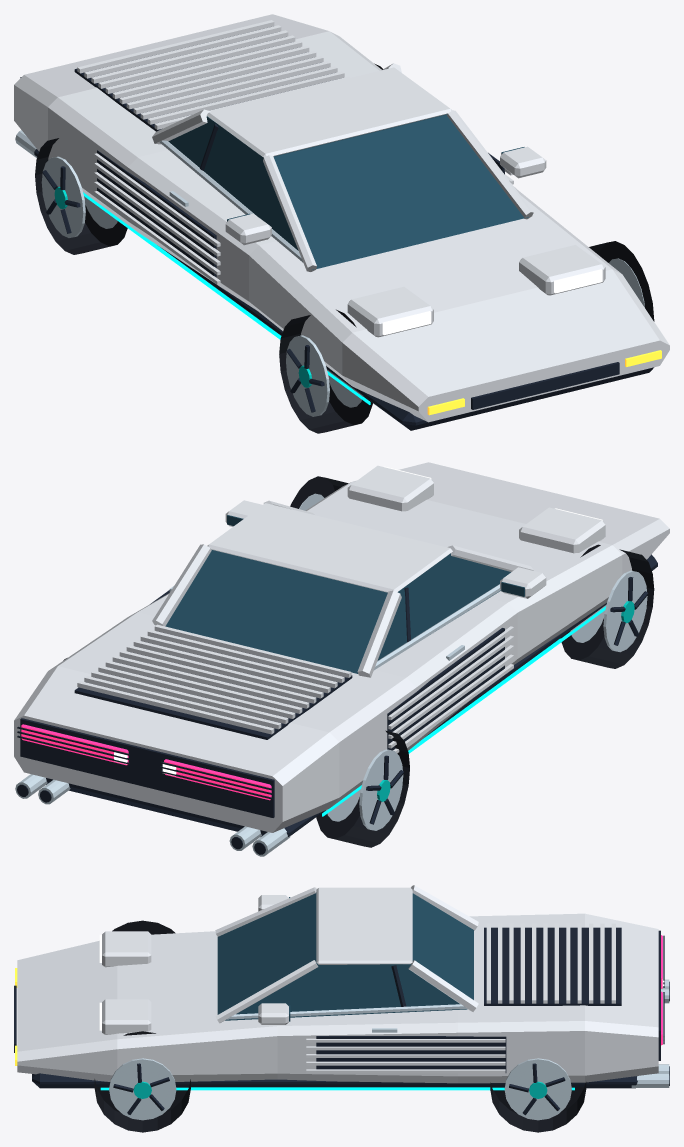
File: car.glb
The picture shows the model from 3 angles, top to bottom: view 1: azimuth 30°, elevation 25°; view 2: azimuth 150°, elevation 25°; view 3: azimuth 270°, elevation 25°; orthographic projection. The views are drawn at different scales.
Parts seen in each view (by area): view 1: body-ivory-pearl, body-midnight-glass, body-carbon-night, wheel-front-left-brushed-chrome, wheel-front-left, wheel-rear-left-brushed-chrome, wheel-rear-left, body-brushed-chrome, body-headlights, body-vehicle-glow, wheel-front-right, body-turn-signals; view 2: body-ivory-pearl, body-midnight-glass, body-carbon-night, body-brushed-chrome, wheel-front-left-brushed-chrome, wheel-front-left, wheel-rear-left-brushed-chrome, body-rear-lights, wheel-rear-left, body-vehicle-glow, wheel-front-right; view 3: body-ivory-pearl, body-midnight-glass, body-carbon-night, wheel-front-right-brushed-chrome, wheel-rear-right-brushed-chrome, body-brushed-chrome, wheel-front-right, wheel-rear-right, body-vehicle-glow, wheel-front-left, wheel-front-right-carbon-night, wheel-rear-right-carbon-night.
Boxes of the visible parts, bbox=[...] form: body-ivory-pearl: bbox=[14, 14, 669, 422]; body-midnight-glass: bbox=[168, 114, 528, 269]; body-carbon-night: bbox=[20, 68, 653, 430]; wheel-front-left-brushed-chrome: bbox=[286, 335, 363, 416]; wheel-front-left: bbox=[279, 309, 372, 433]; wheel-rear-left-brushed-chrome: bbox=[41, 156, 117, 237]; wheel-rear-left: bbox=[35, 138, 127, 254]; body-brushed-chrome: bbox=[15, 130, 302, 262]; body-headlights: bbox=[382, 269, 602, 335]; body-vehicle-glow: bbox=[83, 192, 370, 404]; wheel-front-right: bbox=[589, 241, 654, 321]; body-turn-signals: bbox=[427, 350, 661, 415]; body-ivory-pearl: bbox=[14, 462, 669, 832]; body-midnight-glass: bbox=[165, 515, 524, 673]; body-carbon-night: bbox=[17, 554, 657, 854]; body-brushed-chrome: bbox=[15, 584, 500, 856]; wheel-front-left-brushed-chrome: bbox=[570, 570, 647, 652]; wheel-front-left: bbox=[560, 544, 654, 668]; wheel-rear-left-brushed-chrome: bbox=[326, 749, 403, 830]; body-rear-lights: bbox=[21, 724, 271, 800]; wheel-rear-left: bbox=[316, 730, 409, 847]; body-vehicle-glow: bbox=[322, 606, 605, 816]; wheel-front-right: bbox=[290, 476, 348, 508]; body-ivory-pearl: bbox=[17, 885, 658, 1083]; body-midnight-glass: bbox=[217, 892, 473, 1021]; body-carbon-night: bbox=[14, 927, 669, 1088]; wheel-front-right-brushed-chrome: bbox=[109, 1058, 176, 1120]; wheel-rear-right-brushed-chrome: bbox=[504, 1058, 571, 1120]; body-brushed-chrome: bbox=[226, 979, 669, 1087]; wheel-front-right: bbox=[94, 1031, 190, 1132]; wheel-rear-right: bbox=[490, 1082, 586, 1132]; body-vehicle-glow: bbox=[100, 1087, 574, 1090]; wheel-front-left: bbox=[112, 920, 175, 934]; wheel-front-right-carbon-night: bbox=[113, 1063, 169, 1114]; wheel-rear-right-carbon-night: bbox=[509, 1063, 565, 1115].
Size of the model in its own units: 2.29 by 1.22 by 4.91.
